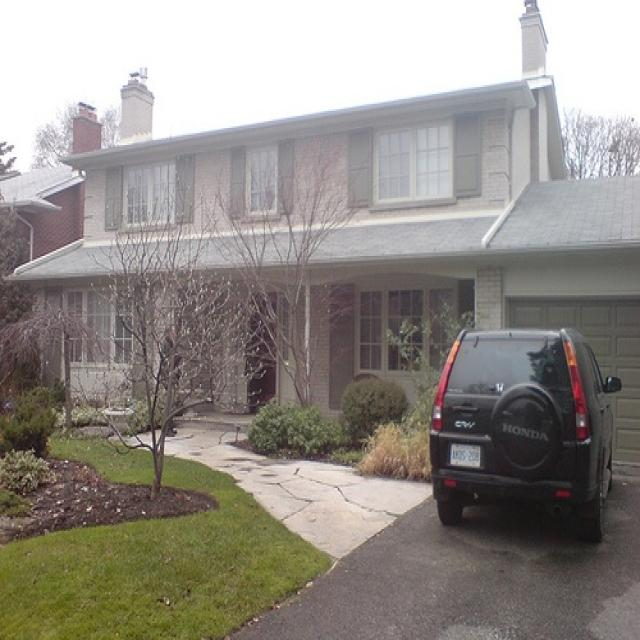car: (426, 326, 624, 543)
